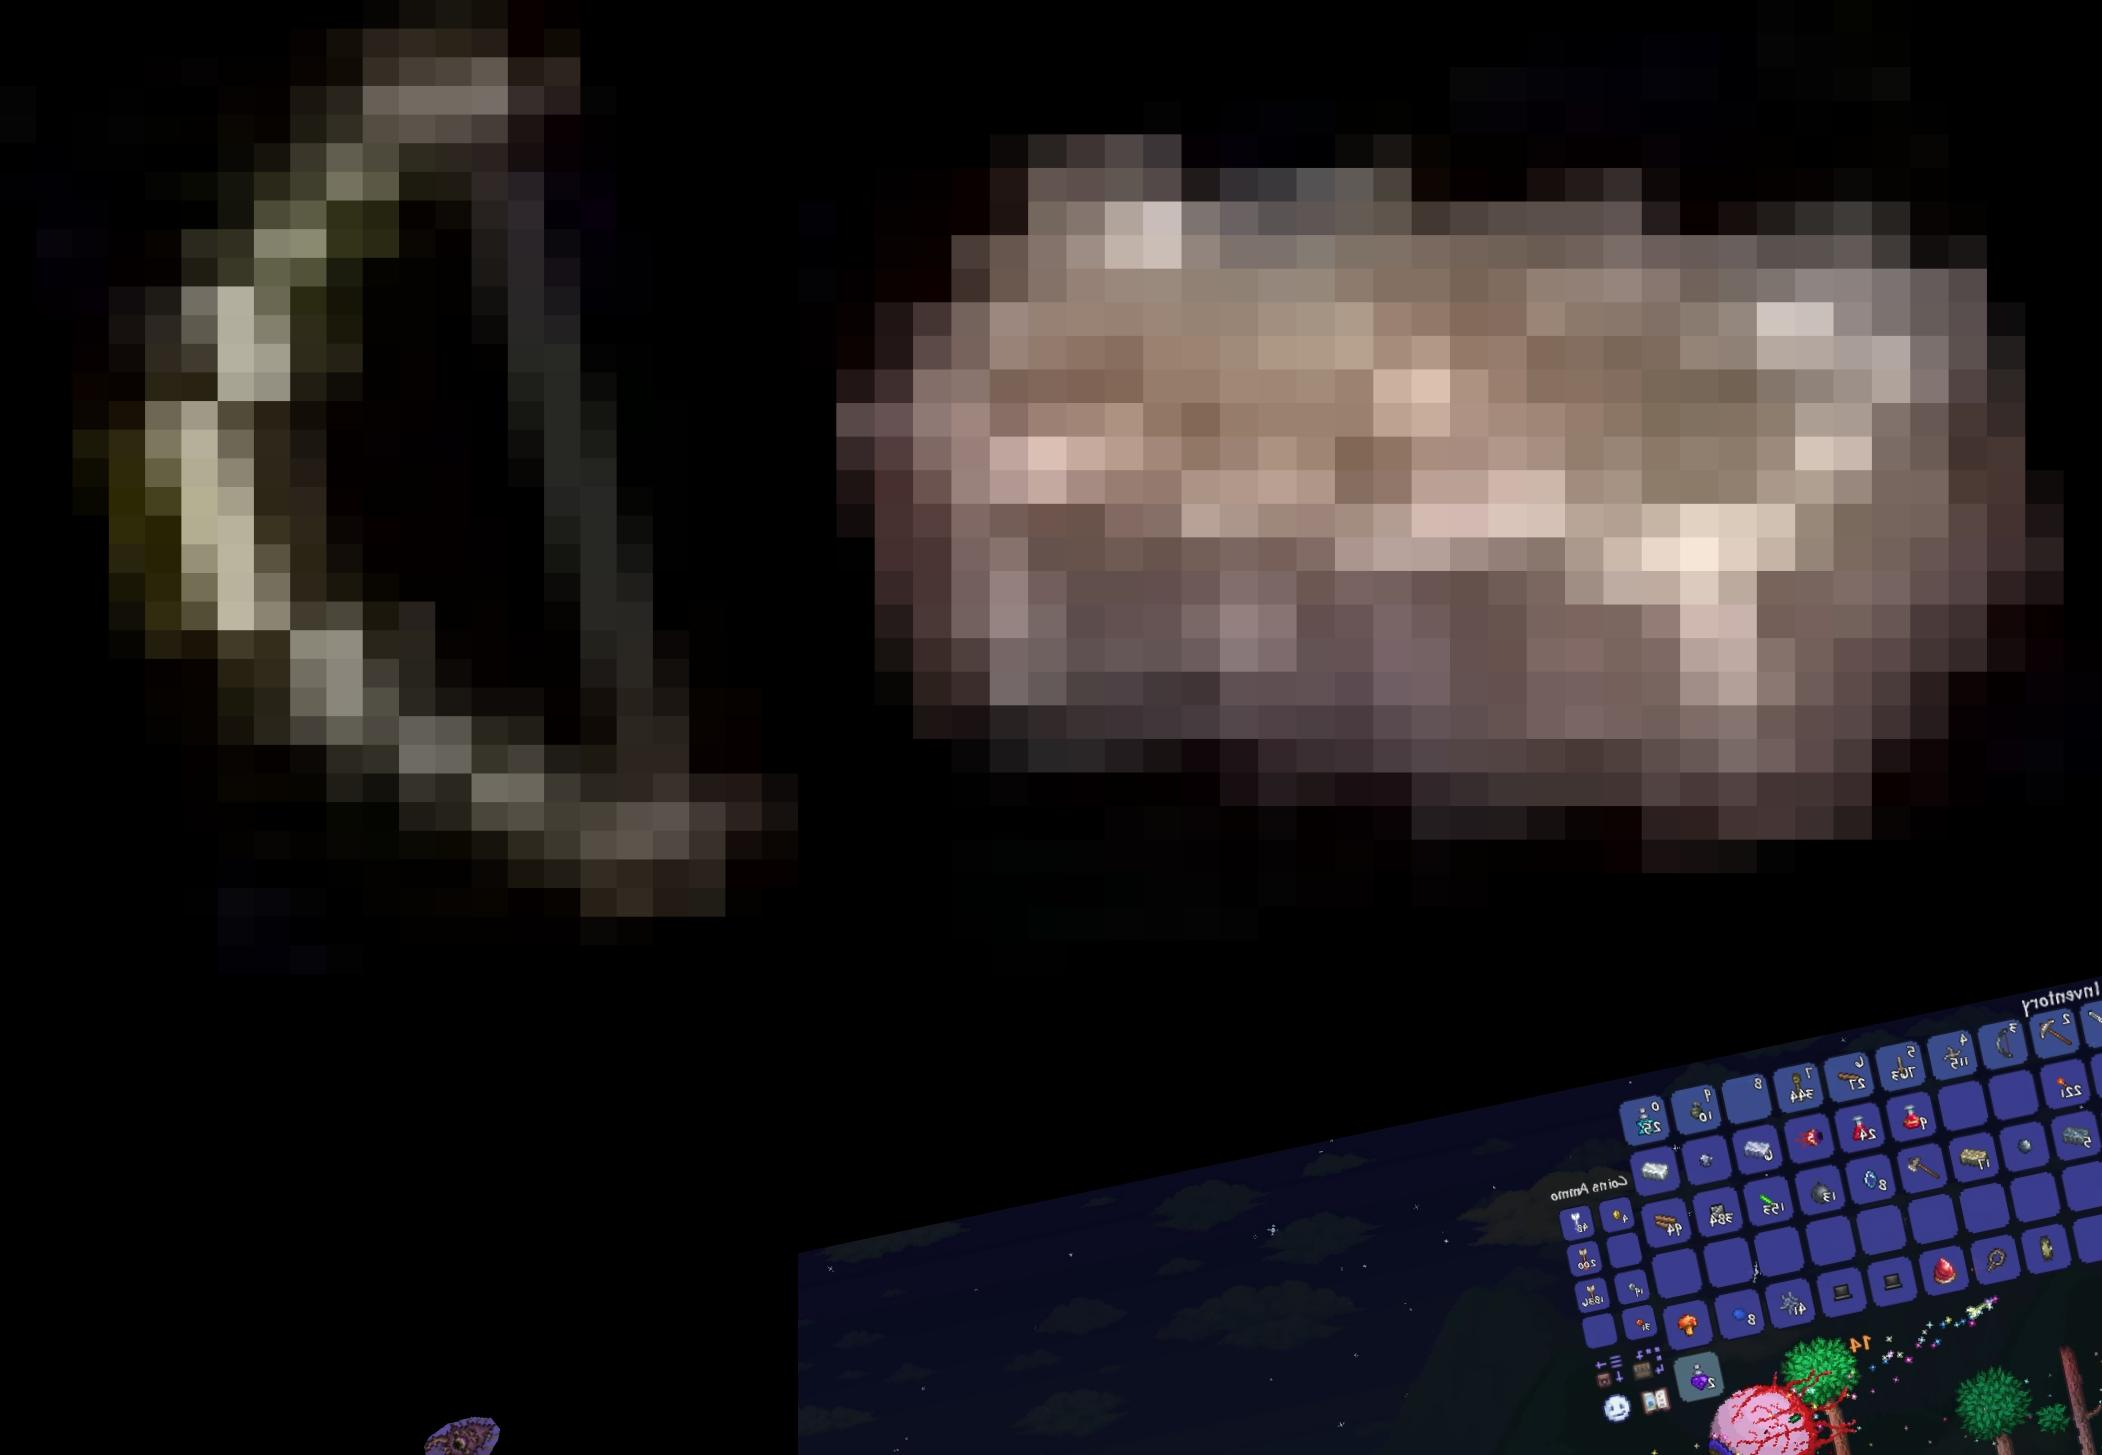bar: (799, 0, 2102, 974)
bow: (0, 0, 799, 974)
crimera: (425, 1417, 500, 1455)
eyeC: (1680, 1356, 1875, 1455)
